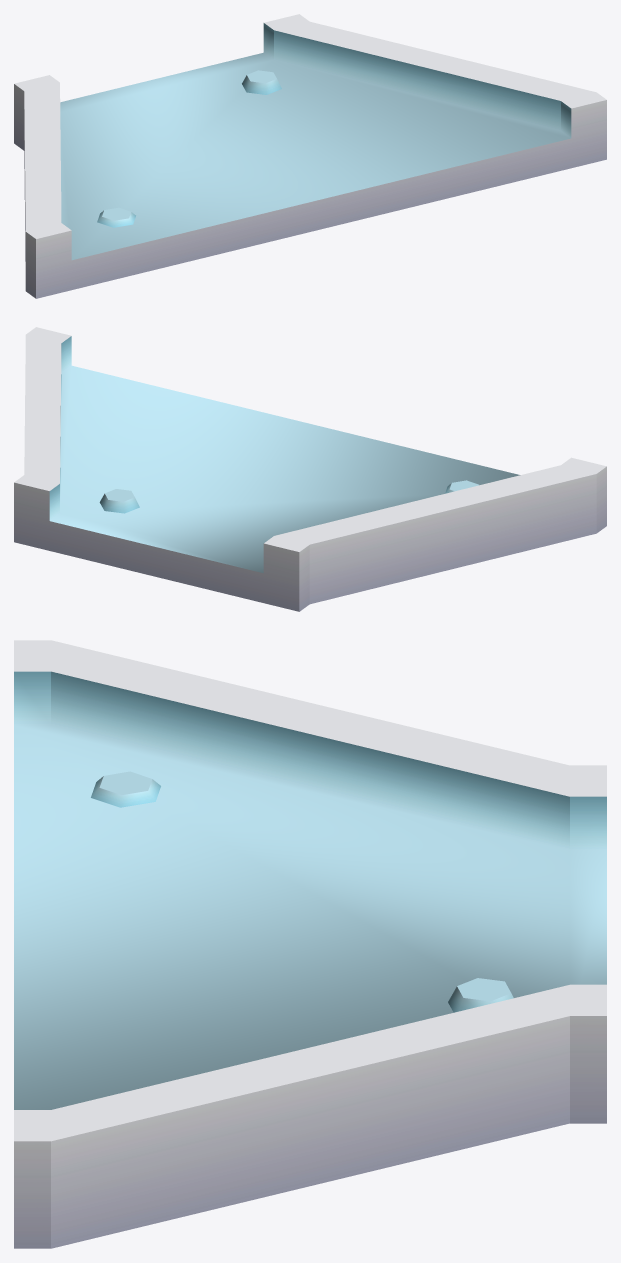
The model's file is kenney-tower-defense-snow-tile-wide.glb.
3 views of the same model, one above another, from view 1: azimuth 30°, elevation 25°; view 2: azimuth 150°, elevation 25°; view 3: azimuth 270°, elevation 25° (orthographic). The views are drawn at different scales.
Visible parts, largest first — view 1: snow-tile-wide-transition; view 2: snow-tile-wide-transition; view 3: snow-tile-wide-transition.
Boxes of the visible parts, x1,y1,x2,y2 form: snow-tile-wide-transition: [14, 14, 606, 298]; snow-tile-wide-transition: [14, 327, 606, 611]; snow-tile-wide-transition: [14, 640, 606, 1248].
Size of the model in its own units: 2 by 0.2 by 1.
Materials: 1 (1 with a texture image).
